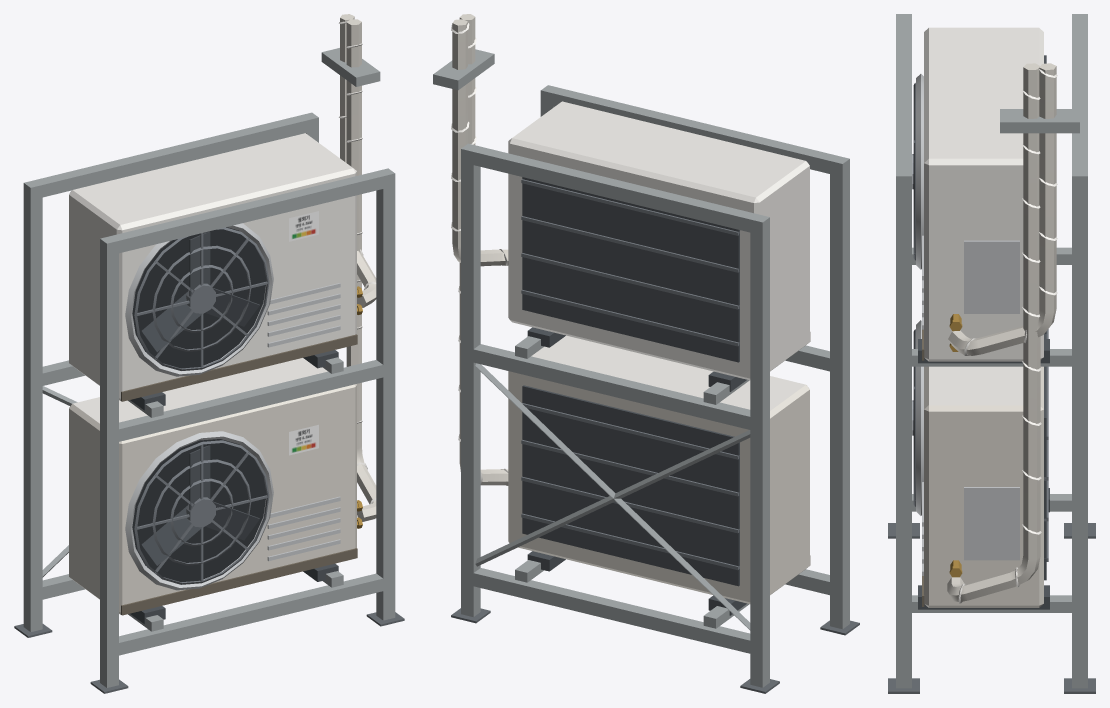
Rendered from SC_Util_AC_Unit_Stack.gltf.
3 renders of one model, left to right at view 1: azimuth 30°, elevation 25°; view 2: azimuth 150°, elevation 25°; view 3: azimuth 270°, elevation 25°, orthographic. The views are drawn at different scales.
Visible parts, largest first — view 1: SC_Util_AC_Unit_Stack; view 2: SC_Util_AC_Unit_Stack; view 3: SC_Util_AC_Unit_Stack.
Part boxes in pixels (x1,y1,x2,y2): SC_Util_AC_Unit_Stack: (14, 14, 404, 693); SC_Util_AC_Unit_Stack: (433, 14, 859, 693); SC_Util_AC_Unit_Stack: (888, 14, 1095, 693).
Bounding box in the file's own units: 1.08 × 1.75 × 0.52.
2 materials, 2 textured.
